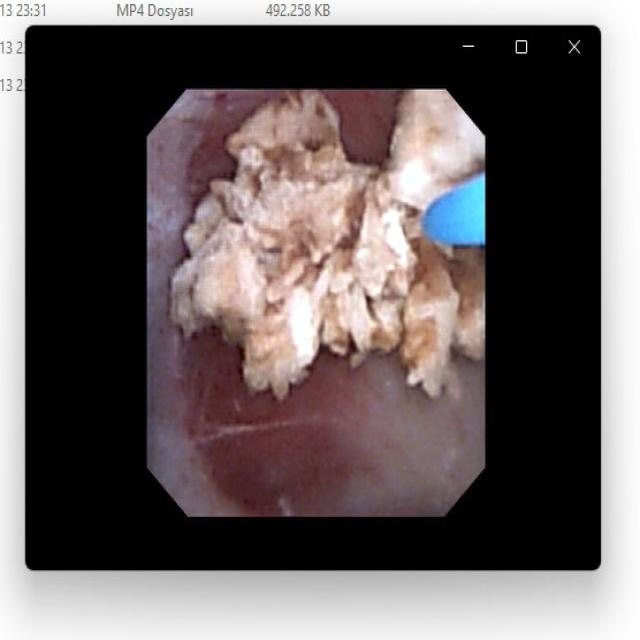fiber: (432, 183, 479, 240)
stone: (179, 93, 479, 393)
